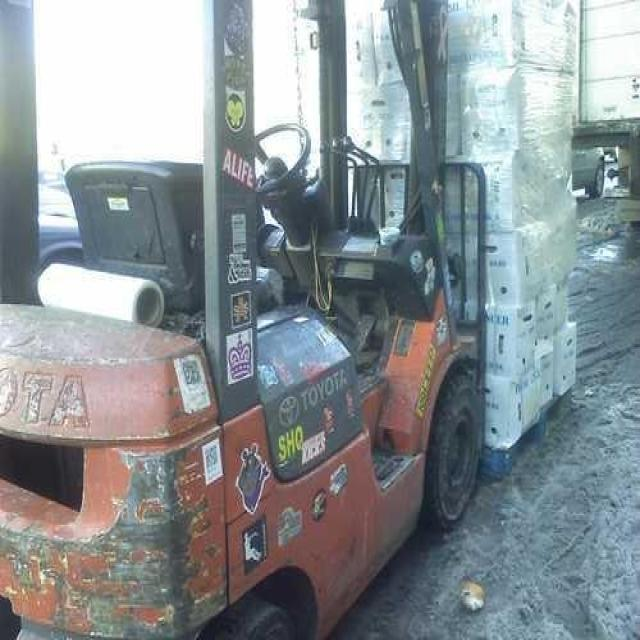forklift: (0, 0, 486, 630)
